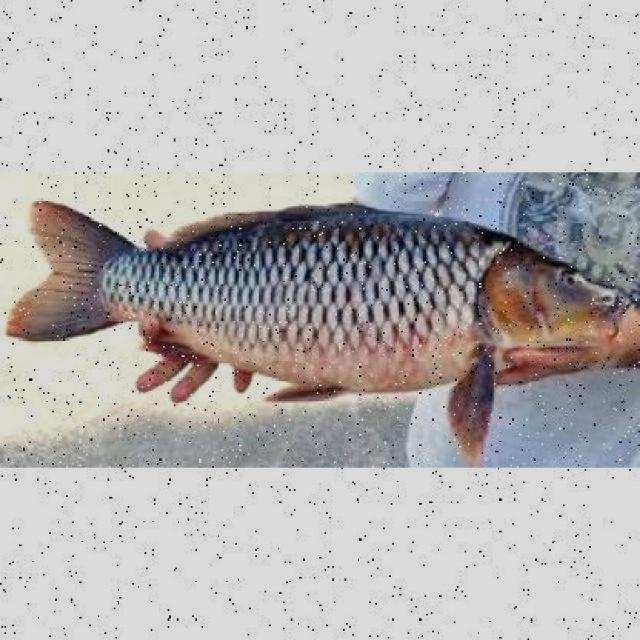ikan-mas: (18, 192, 631, 405)
